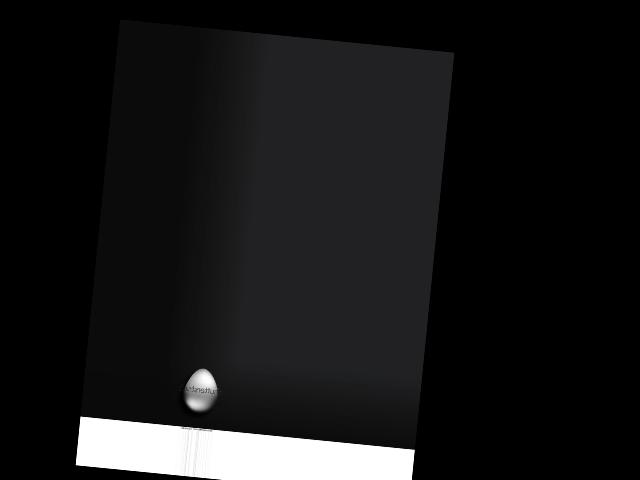egg: (181, 366, 220, 414)
